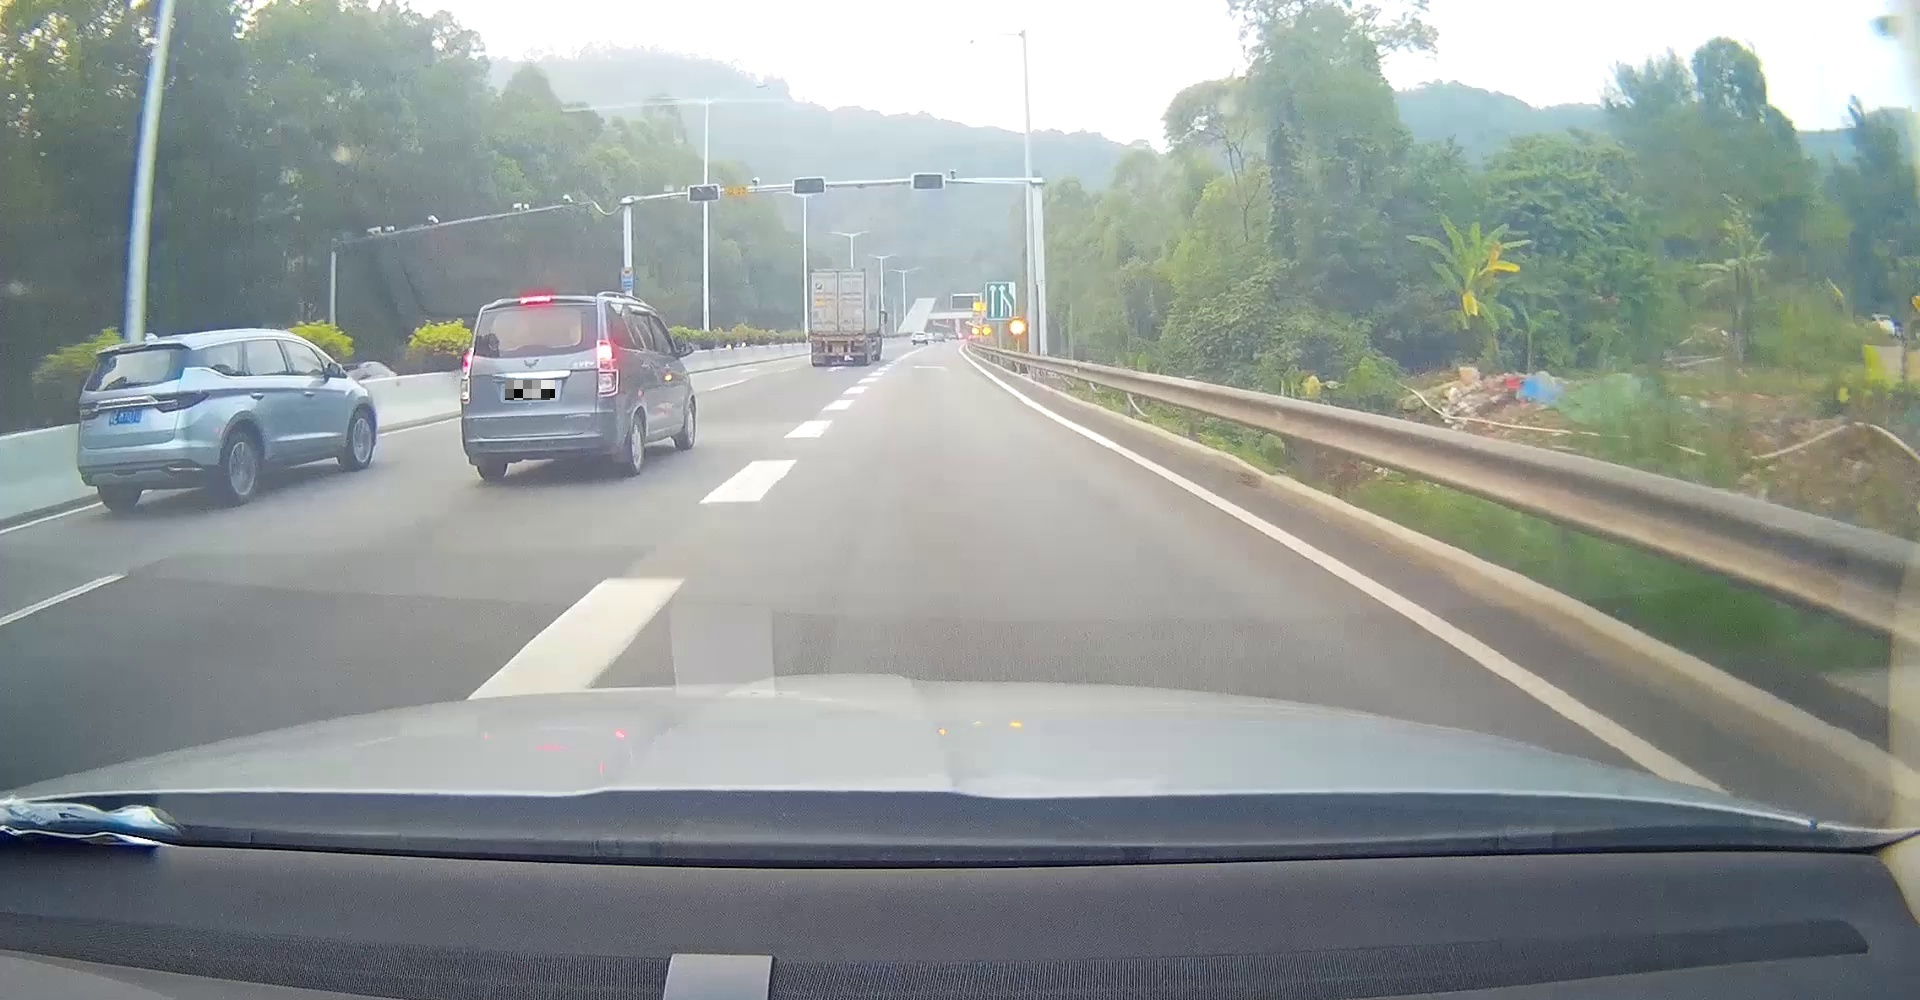L_light: (458, 346, 472, 402), (79, 402, 99, 419), (813, 341, 822, 346)
R_light: (596, 340, 618, 398), (154, 391, 210, 412), (855, 341, 866, 346)
T_light: (521, 294, 550, 303), (118, 344, 149, 352), (833, 272, 843, 275)
day-brake: (457, 294, 623, 477)
day-no: (75, 338, 215, 509), (809, 266, 869, 365)
plate_1: (505, 379, 555, 400)
